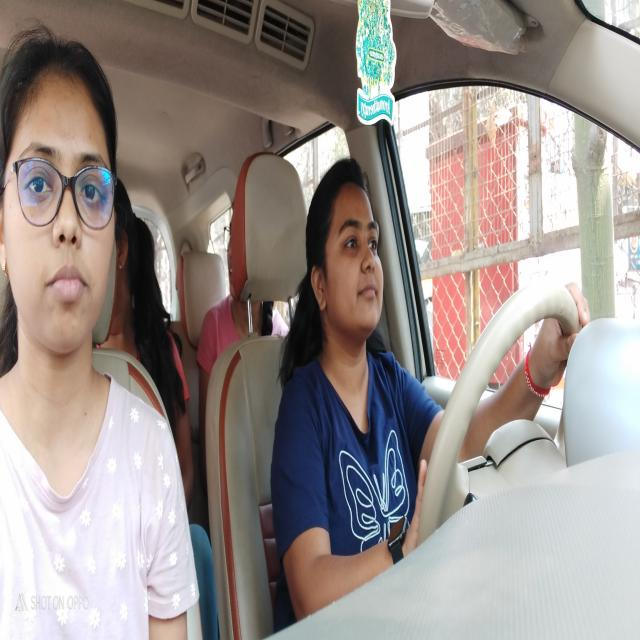person: (0, 42, 121, 364), (308, 144, 392, 366)
